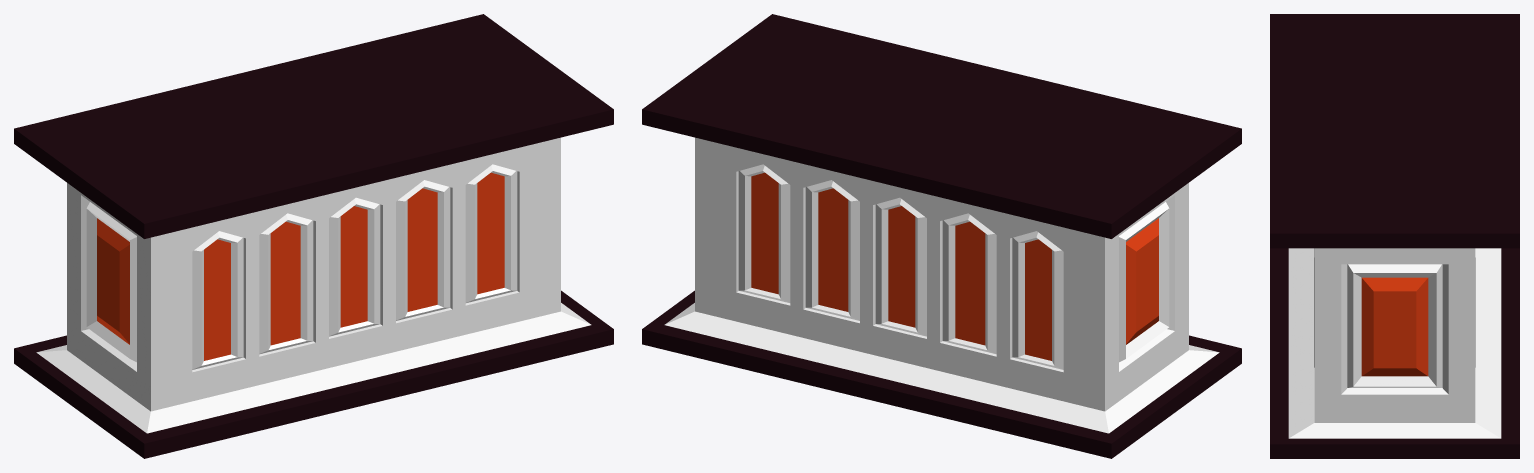
The model's file is TABLE.fbx.
3 views of the same model, side by side, from view 1: azimuth 30°, elevation 25°; view 2: azimuth 150°, elevation 25°; view 3: azimuth 270°, elevation 25° (orthographic). The views are drawn at different scales.
Visible parts, largest first — view 1: Altar_Altar_0; view 2: Altar_Altar_0; view 3: Altar_Altar_0.
Boxes of the visible parts, bbox=[...] form: Altar_Altar_0: bbox=[14, 14, 613, 458]; Altar_Altar_0: bbox=[642, 14, 1241, 458]; Altar_Altar_0: bbox=[1270, 14, 1519, 458].
Bounding box in the file's own units: 18869 × 9024 × 9068.
